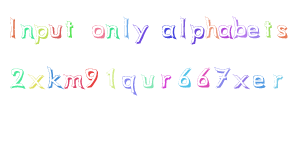1: (105, 66, 117, 89)
2: (9, 67, 26, 89)
6: (177, 66, 193, 89), (196, 66, 212, 89)
7: (213, 66, 231, 90)
9: (84, 65, 99, 89)
I: (5, 14, 24, 41)
a: (160, 22, 177, 40), (218, 23, 233, 39)
b: (231, 14, 247, 39)
e: (251, 72, 267, 90), (246, 22, 261, 40)
h: (204, 14, 218, 40)
k: (46, 65, 63, 89)
l: (177, 17, 188, 39), (121, 15, 131, 38)
m: (62, 72, 85, 89)
n: (19, 23, 35, 40), (105, 22, 120, 40)
o: (90, 23, 105, 40)
p: (188, 23, 204, 45), (34, 24, 49, 45)
q: (121, 73, 137, 97)
r: (159, 72, 173, 89), (271, 73, 283, 89)
s: (275, 23, 290, 39)
t: (261, 18, 273, 39), (63, 19, 75, 39)
u: (48, 24, 63, 39), (141, 73, 155, 89)
x: (232, 72, 251, 91), (27, 72, 46, 90)
y: (132, 22, 148, 44)
